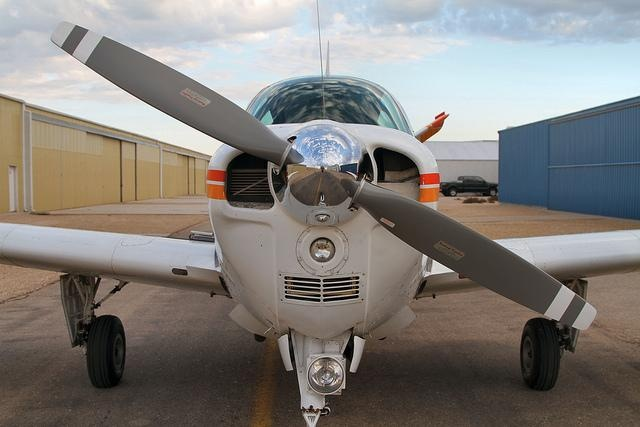airplane: (12, 14, 640, 416)
